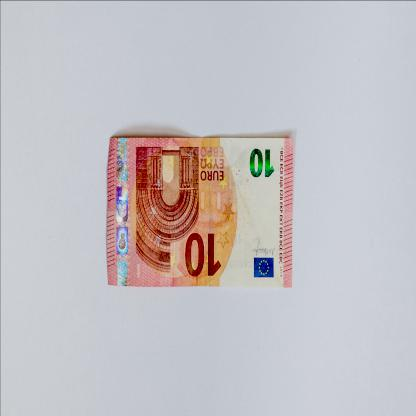euro_banknote: (107, 138, 296, 288)
